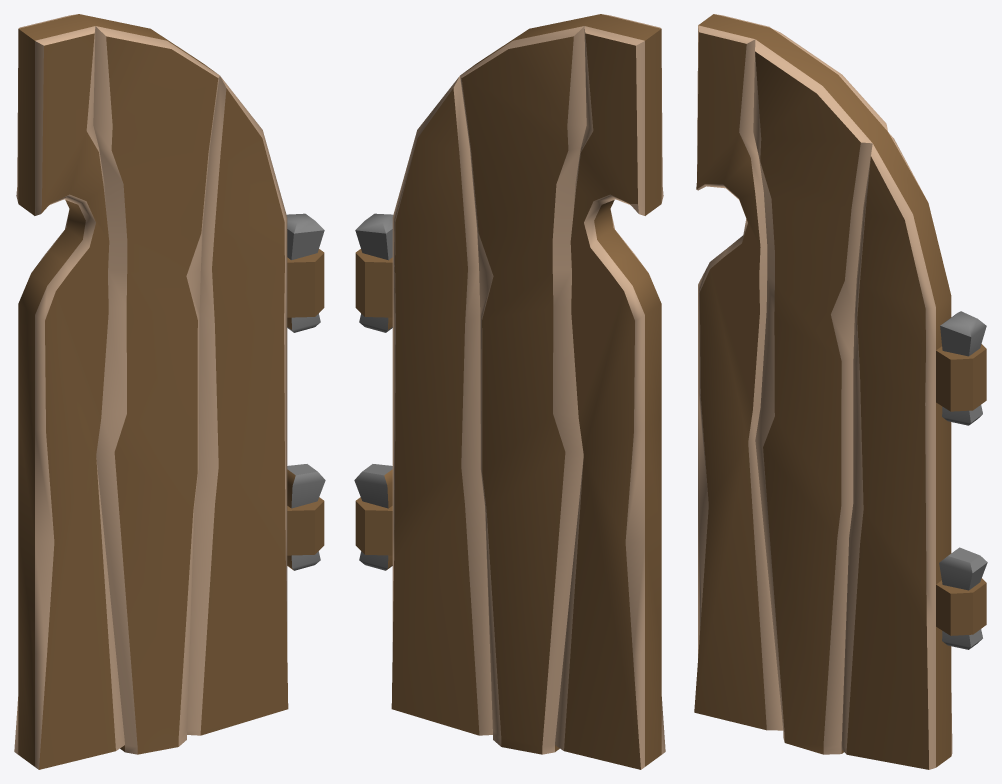
File: Window_Shutter.fbx
3 views of the same model, side by side, from view 1: azimuth 30°, elevation 25°; view 2: azimuth 150°, elevation 25°; view 3: azimuth 330°, elevation 25° (orthographic). The views are drawn at different scales.
Visible parts, largest first — view 1: polySurface2; view 2: polySurface2; view 3: polySurface2.
Boxes of the visible parts, box(x1,y1,x2,y2) form: polySurface2: box(14, 14, 325, 769); polySurface2: box(354, 14, 665, 769); polySurface2: box(694, 14, 987, 769).
Bounding box in the file's own units: 2.03 × 4.91 × 0.3477.
